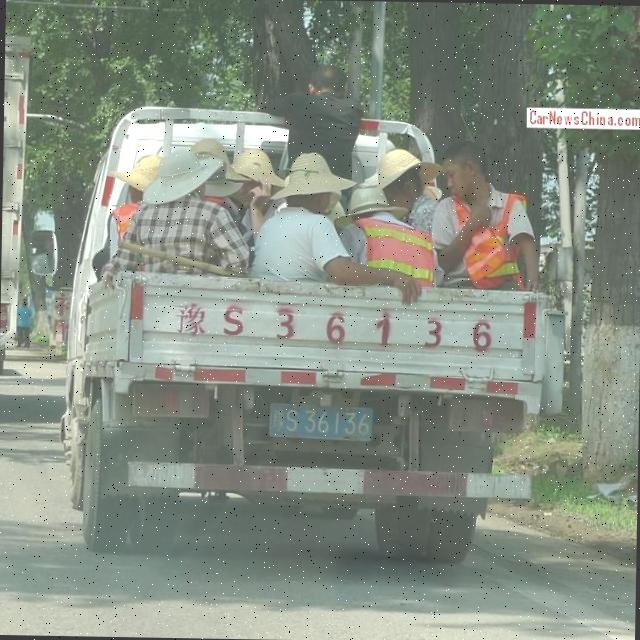vest: (454, 212, 527, 280), (354, 218, 430, 280)
